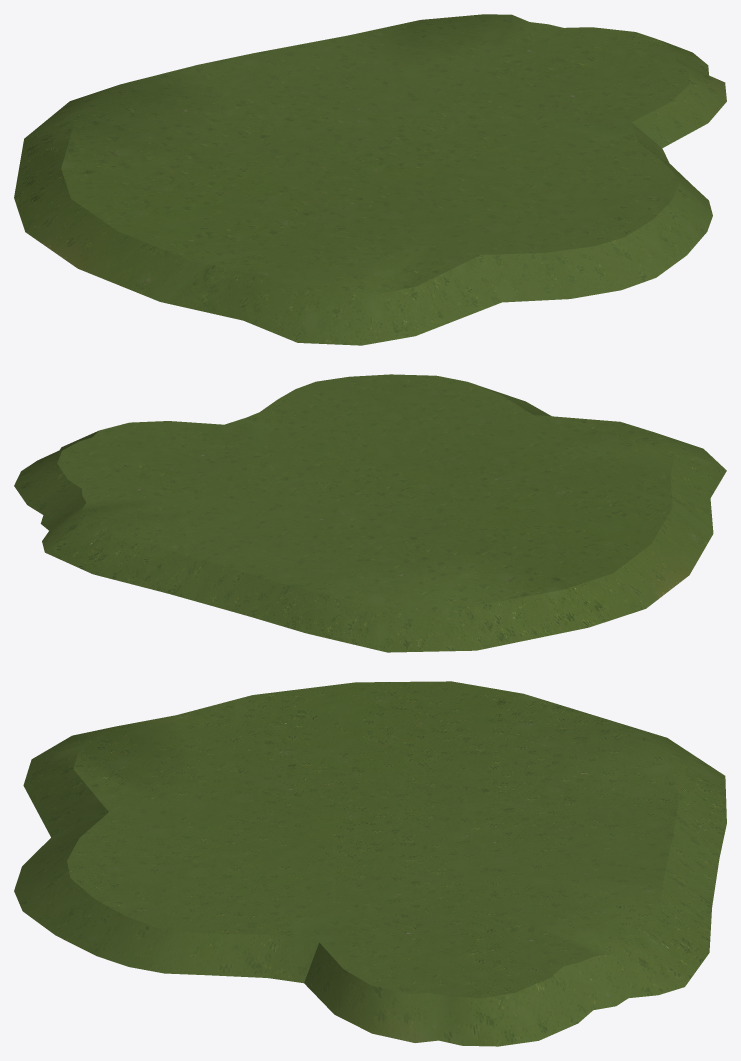
File: Grass_Holm.fbx
3 renders of one model, top to bottom at view 1: azimuth 30°, elevation 25°; view 2: azimuth 150°, elevation 25°; view 3: azimuth 270°, elevation 25°, orthographic. The views are drawn at different scales.
Parts seen in each view (by area): view 1: Plane.016; view 2: Plane.016; view 3: Plane.016.
Part boxes in pixels (x1=…): Plane.016: x1=14, y1=14, x2=726, y2=345; Plane.016: x1=14, y1=374, x2=726, y2=652; Plane.016: x1=14, y1=681, x2=726, y2=1046.
Bounding box in the file's own units: 1221 × 45.13 × 1027.
